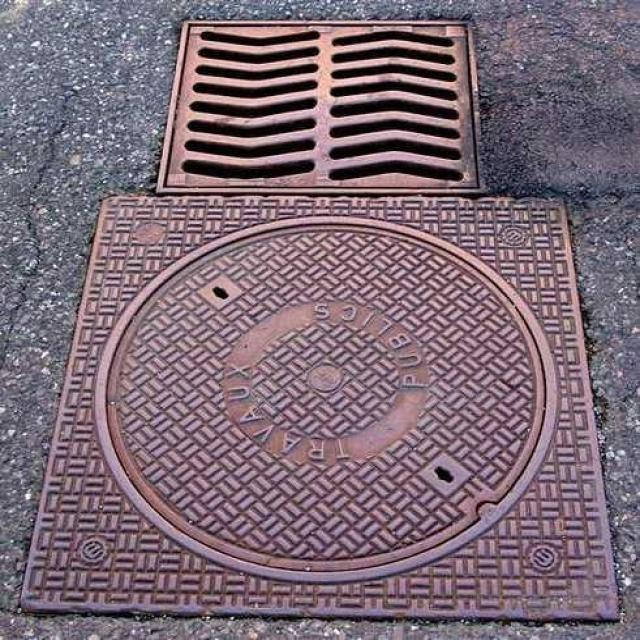manhole: (95, 219, 556, 581), (158, 22, 480, 193)
